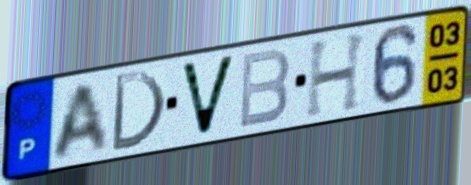6: (370, 22, 420, 107)
A: (50, 79, 112, 164)
B: (236, 46, 293, 132)
D: (108, 68, 169, 154)
H: (303, 28, 372, 121)
V: (177, 52, 239, 139)
